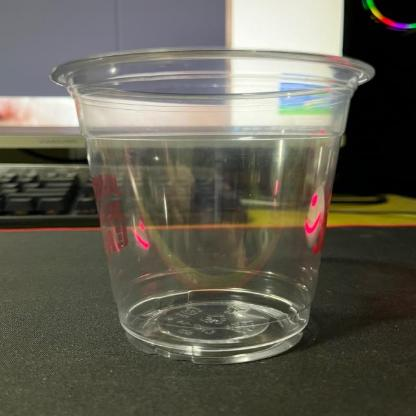Plastic Cup: (46, 44, 380, 366)
